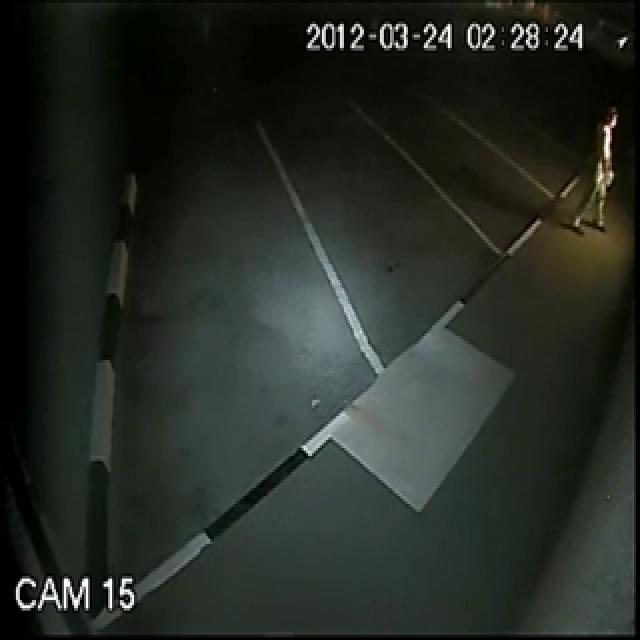vandalism: (305, 4, 637, 370)
